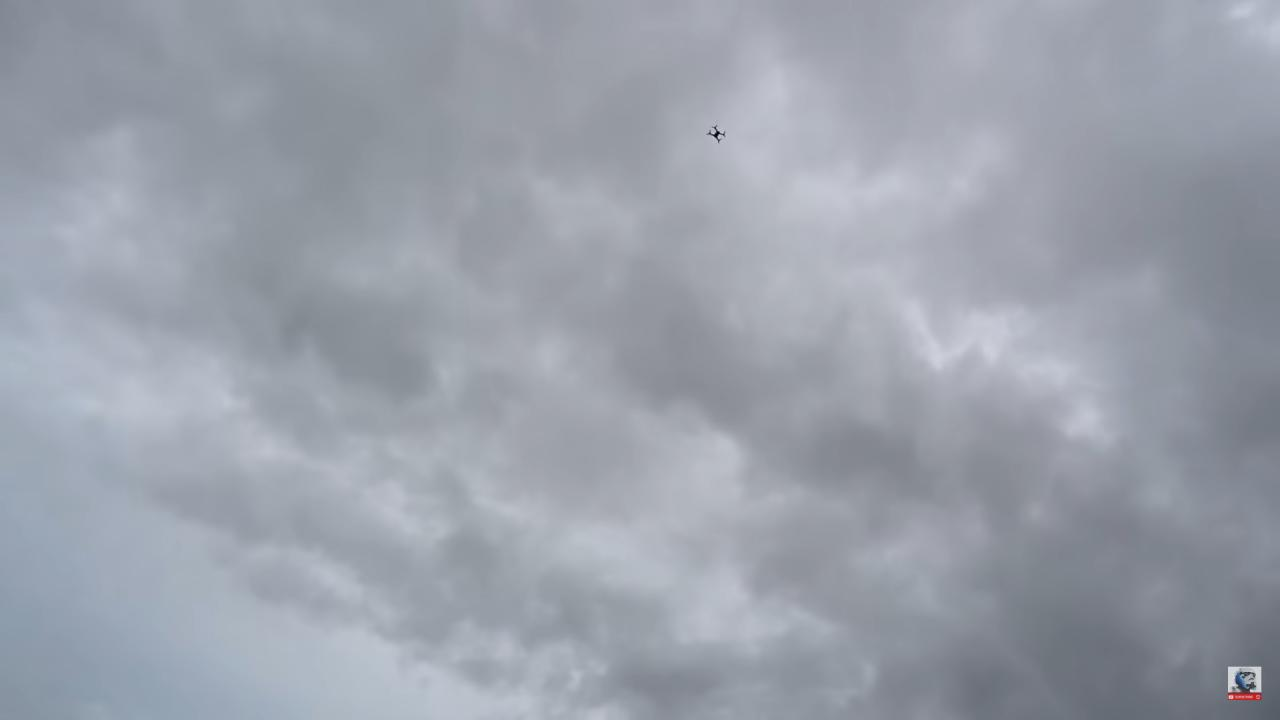Drone: (699, 118, 734, 150)
